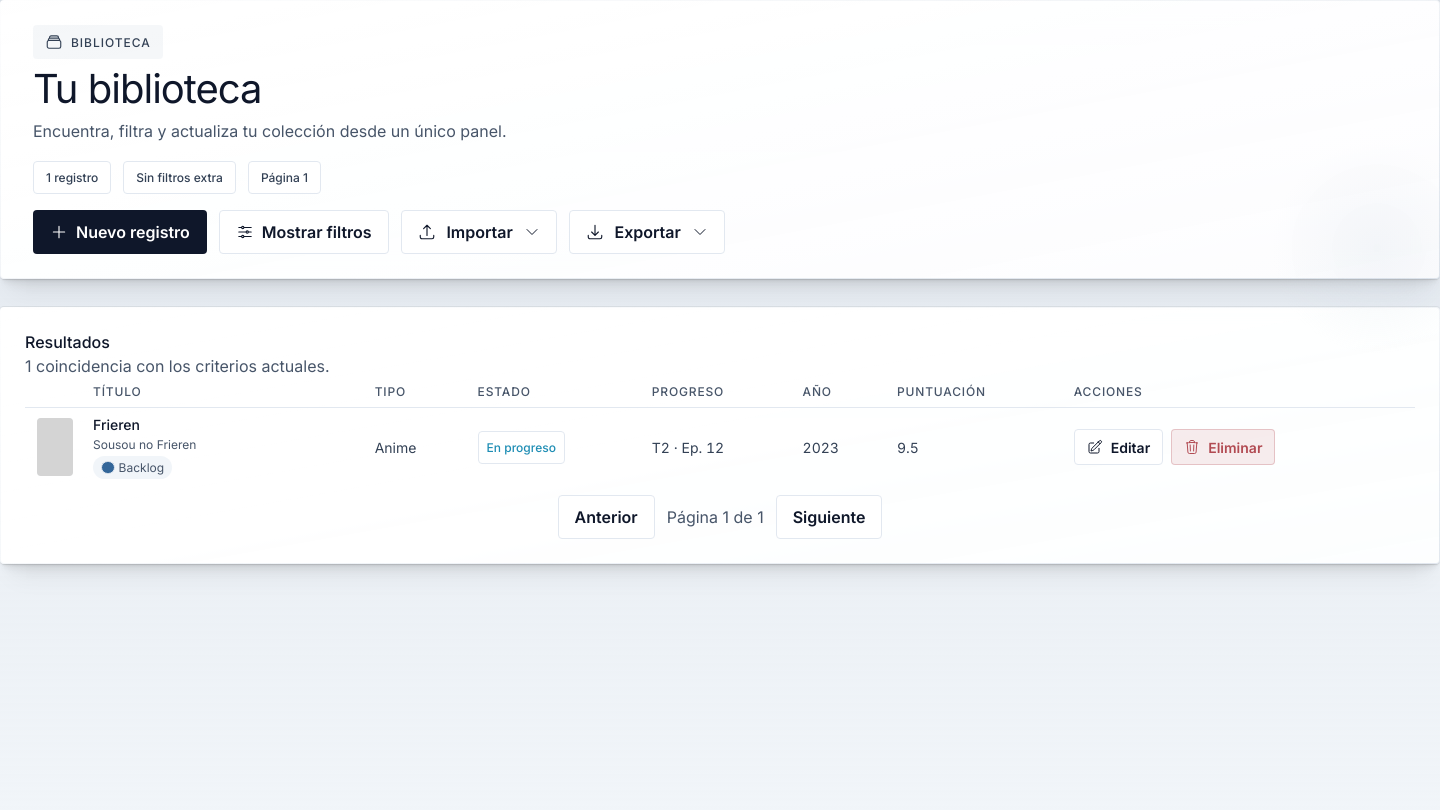
LibraryView › loads an existing item into the editor and updates it
The width and height of the screenshot is (1440, 810).
Click the button "Editar" at (1118, 447), box [1074,429,1163,465]
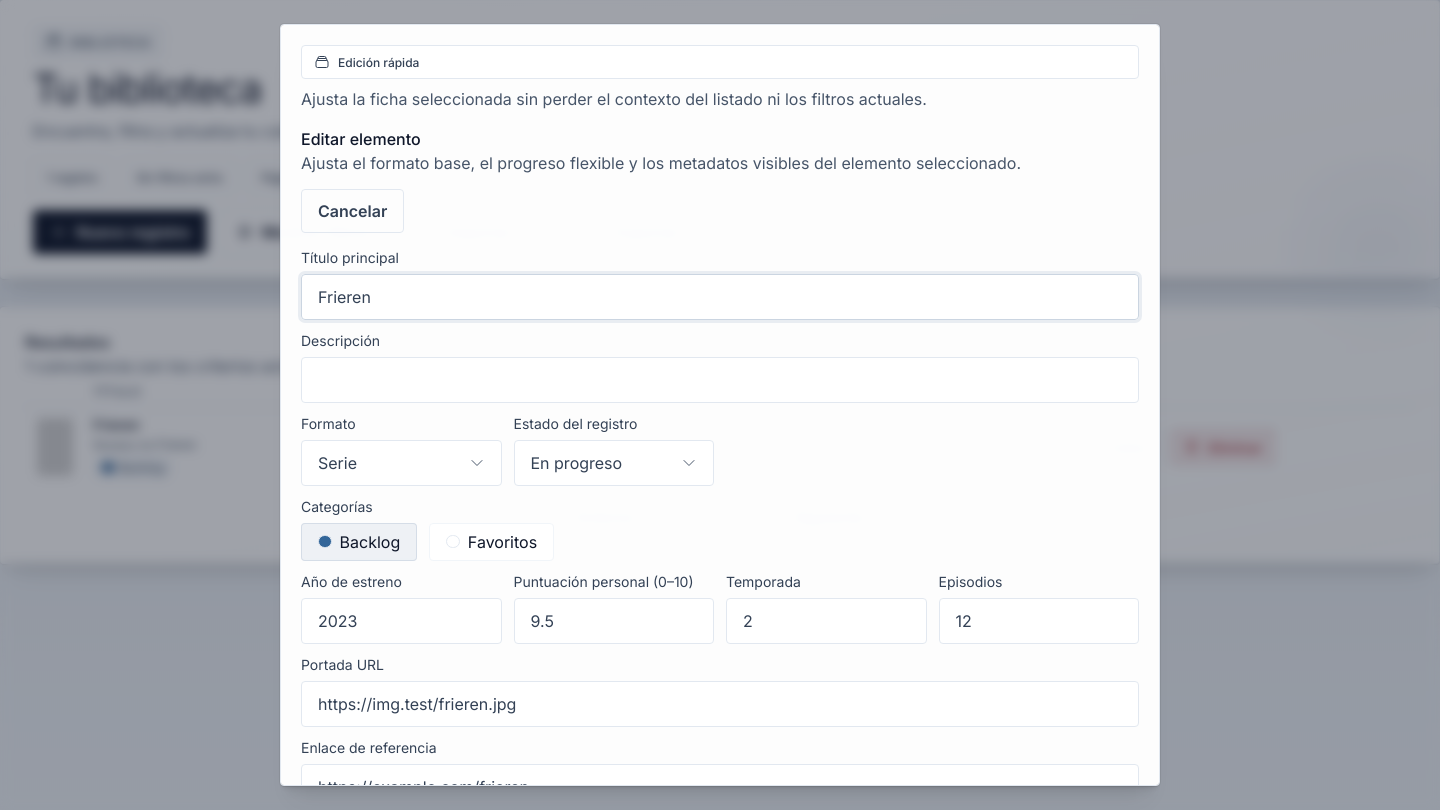
Replace the text in the field labelled "Título principal" with "Frieren Final" at (720, 297), box [301,274,1139,320]
Select "Completado" in the dropdown labelled "Estado del registro" at (614, 463), box [514,440,714,486]
Click the button "Favoritos" at (492, 542), box [429,523,554,561]
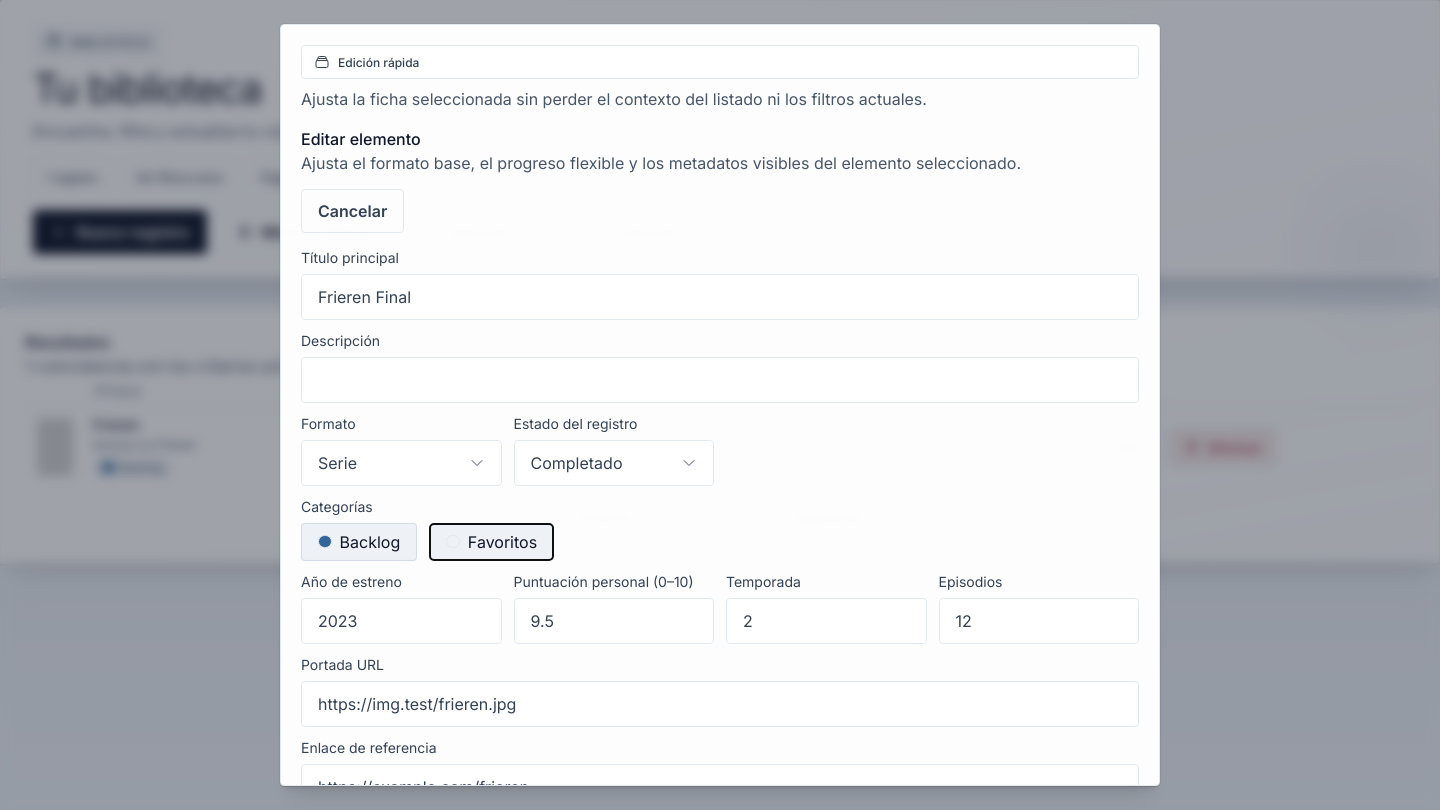
Replace the text in the number field labelled "Episodios" with "28" at (1039, 621), box [938,598,1139,644]
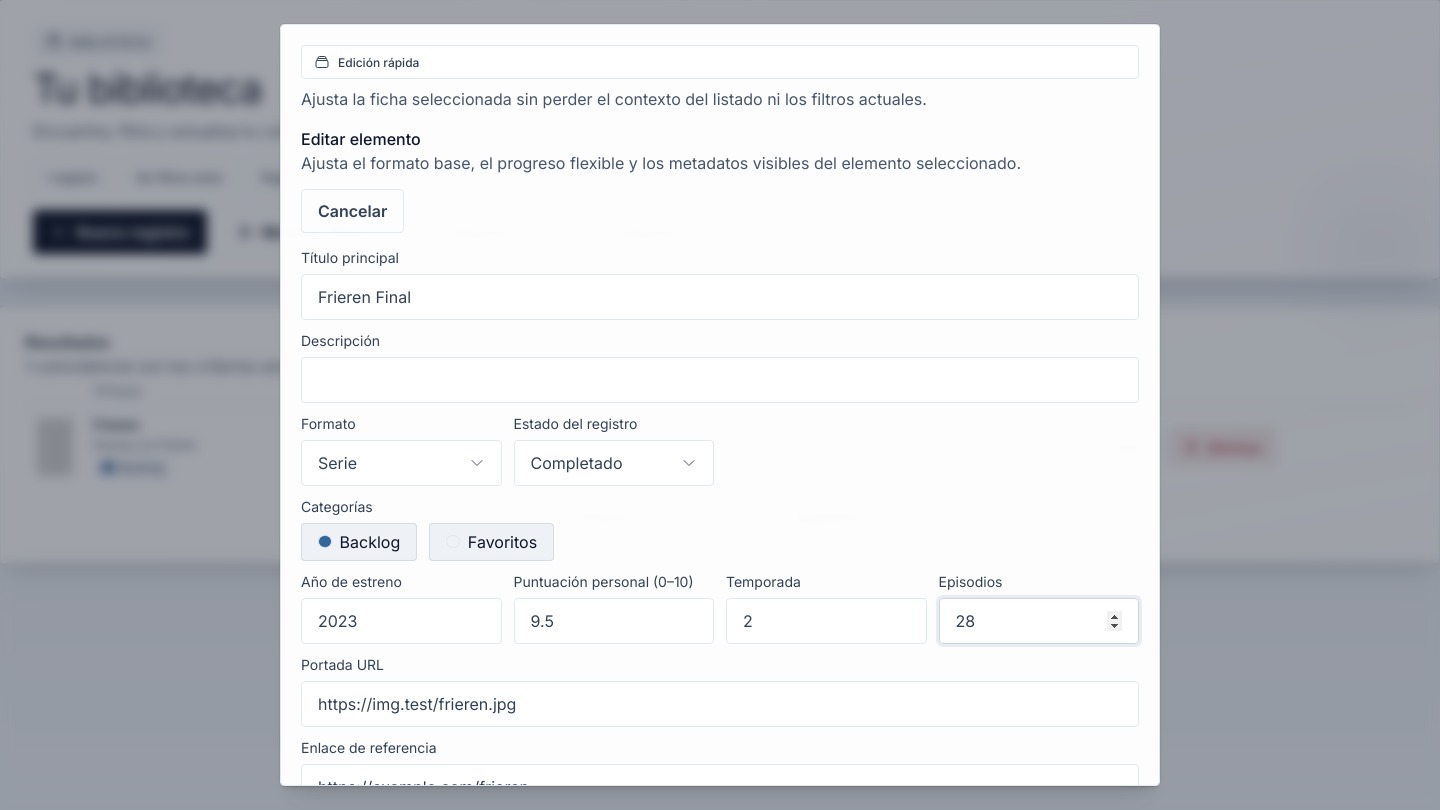
Replace the text in the number field labelled "Puntuación personal (0–10)" with "9.8" at (614, 621), box [514,598,714,644]
(page scrolled)
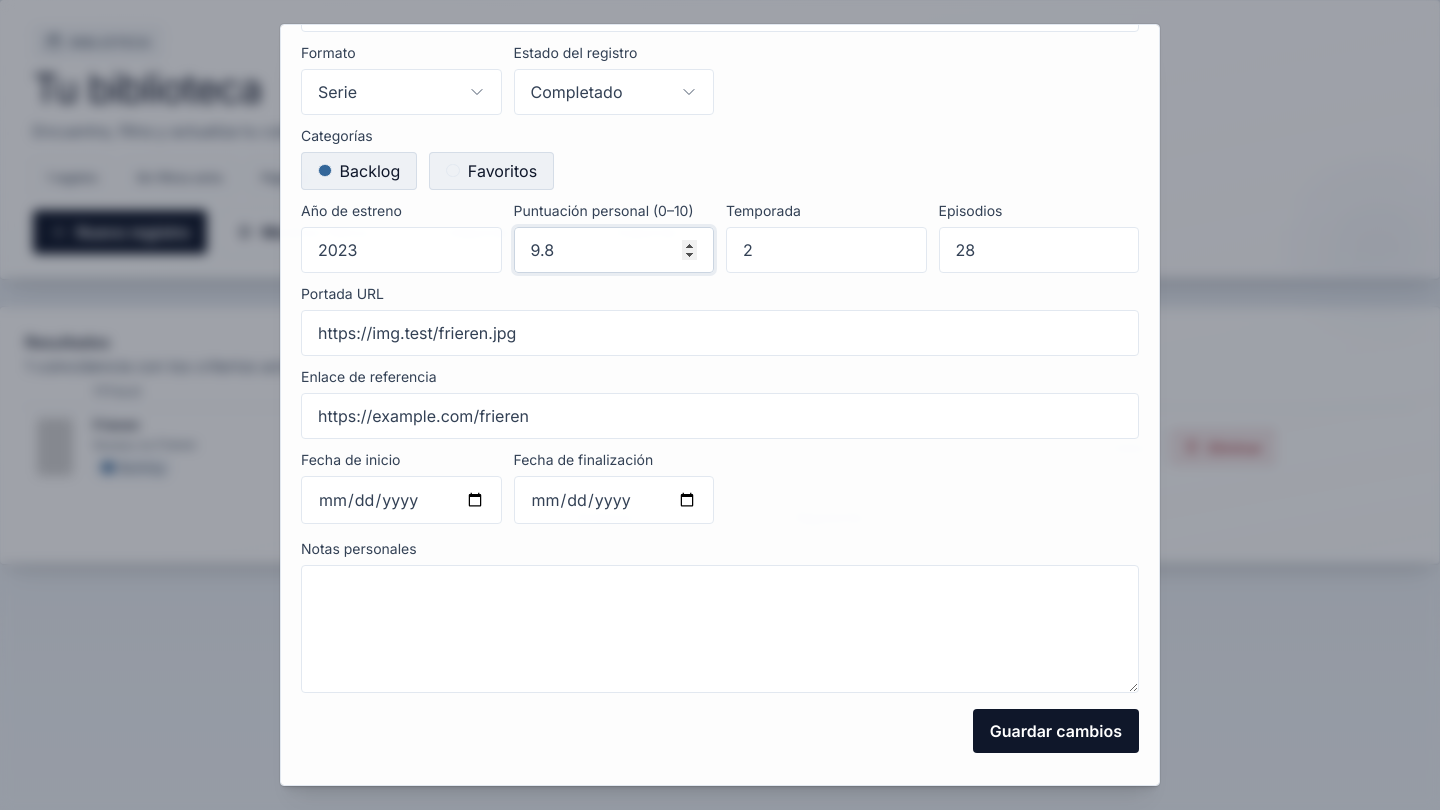
Type "Gran cierre" into the text box labelled "Notas personales" at (720, 629), box [301,565,1139,693]
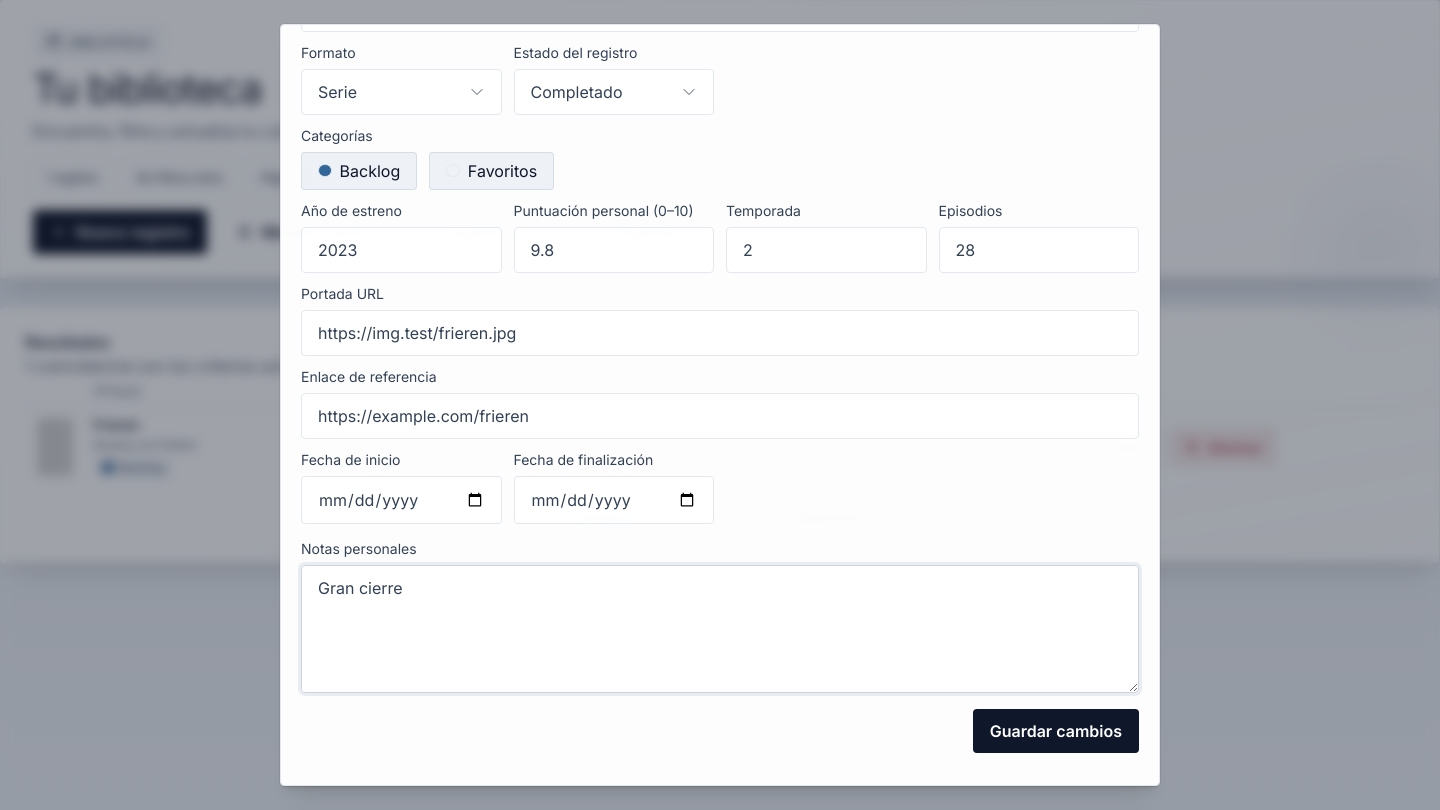
Click the button "Guardar cambios" at (1056, 731), box [973,709,1139,753]
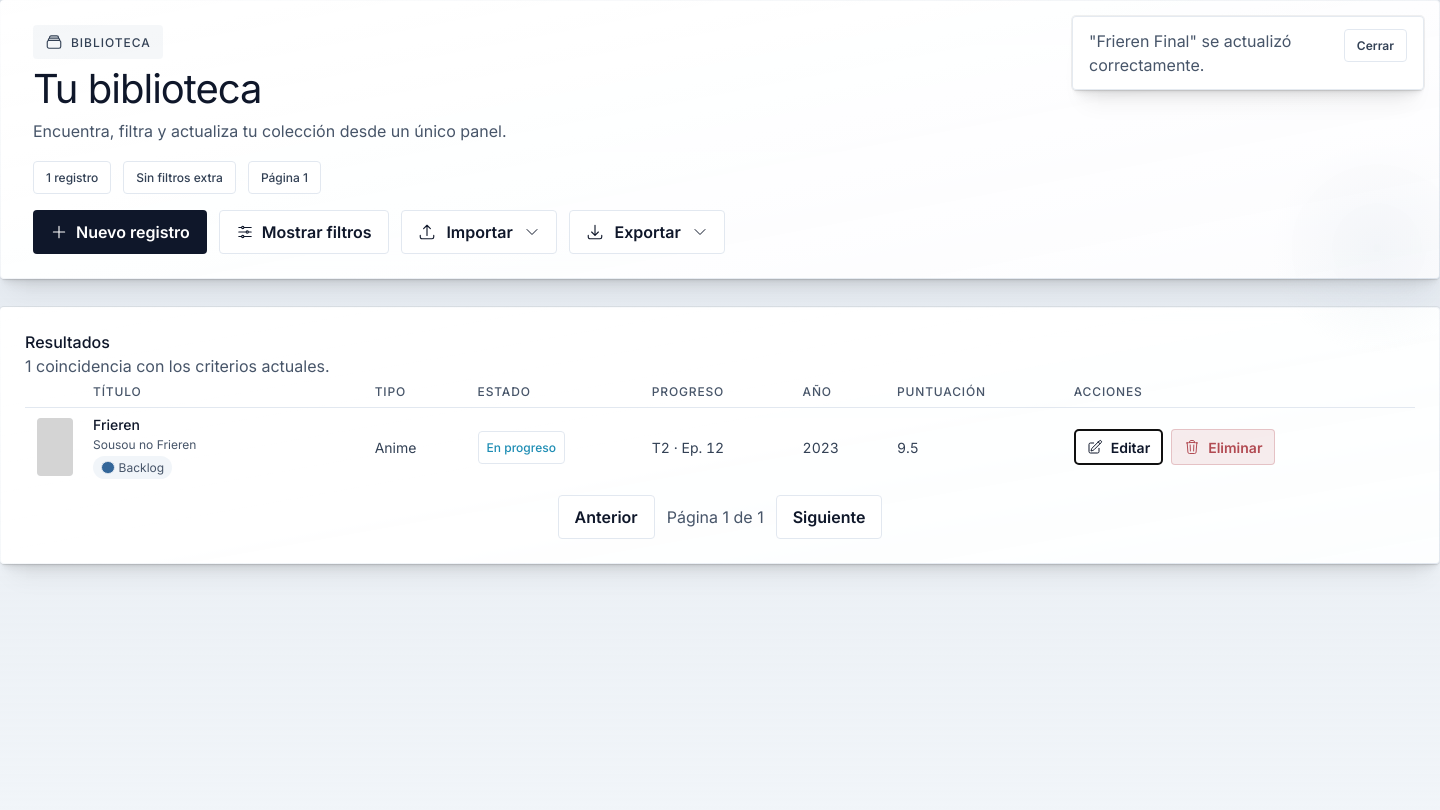
Now the text "\"Frieren Final\" se actualizó correctamente." is shown, box [1089,31,1292,75]
